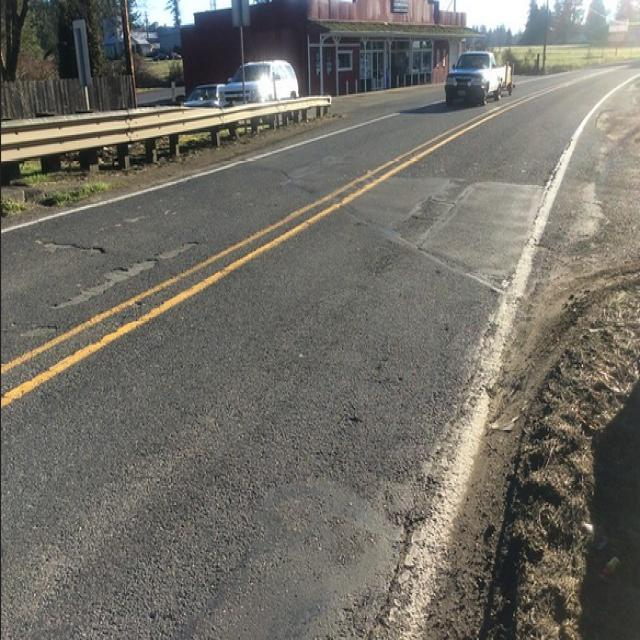Pothole: (407, 103, 640, 640)
